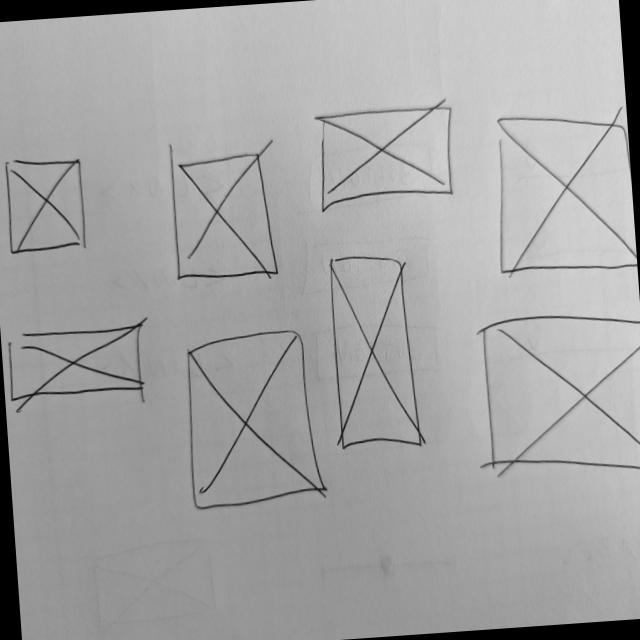image: (476, 304, 640, 491), (179, 327, 332, 516), (487, 106, 638, 280), (326, 247, 427, 456), (313, 101, 462, 215), (167, 148, 283, 289), (4, 322, 154, 414), (2, 151, 89, 259)
